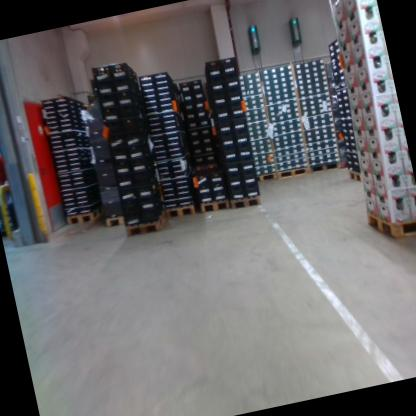pallet: (363, 199, 416, 246), (121, 208, 171, 240), (63, 203, 102, 230), (163, 195, 198, 223), (226, 187, 262, 211), (275, 162, 312, 183), (103, 208, 134, 232), (199, 195, 231, 217), (253, 168, 281, 188), (307, 157, 341, 173), (346, 167, 365, 187)
